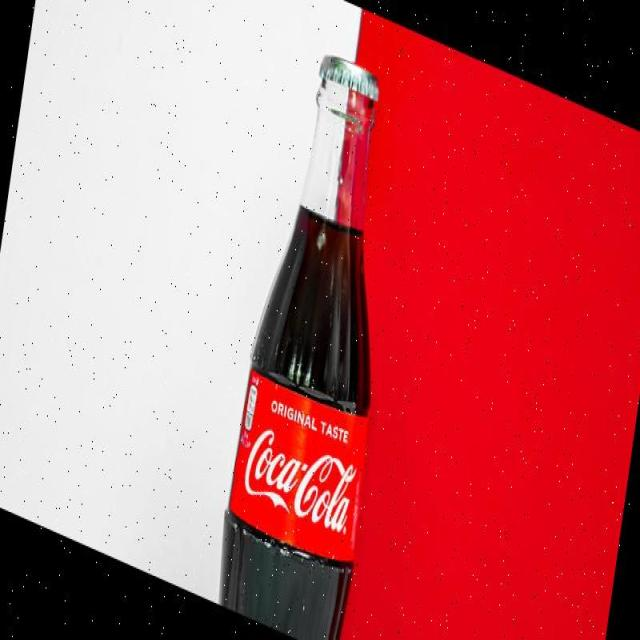coca-cola: (210, 24, 423, 640)
